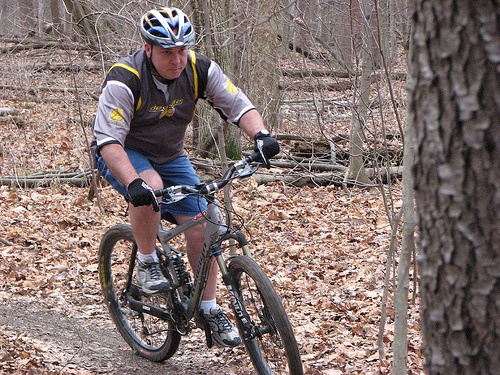head: (145, 8, 190, 80)
person: (86, 5, 280, 318)
